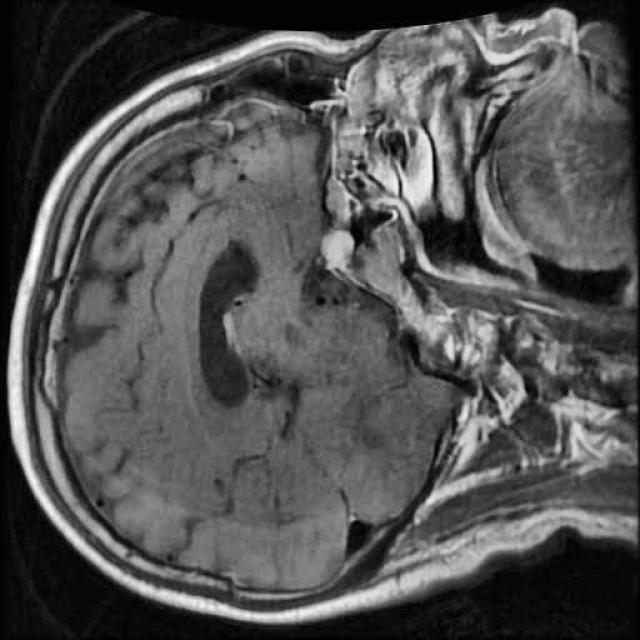Tumor: (310, 214, 365, 281)
